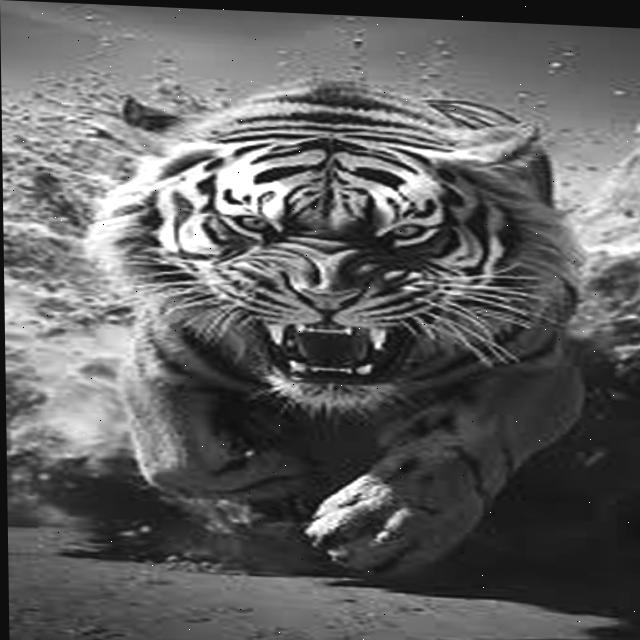Tiger: (53, 64, 531, 577)
